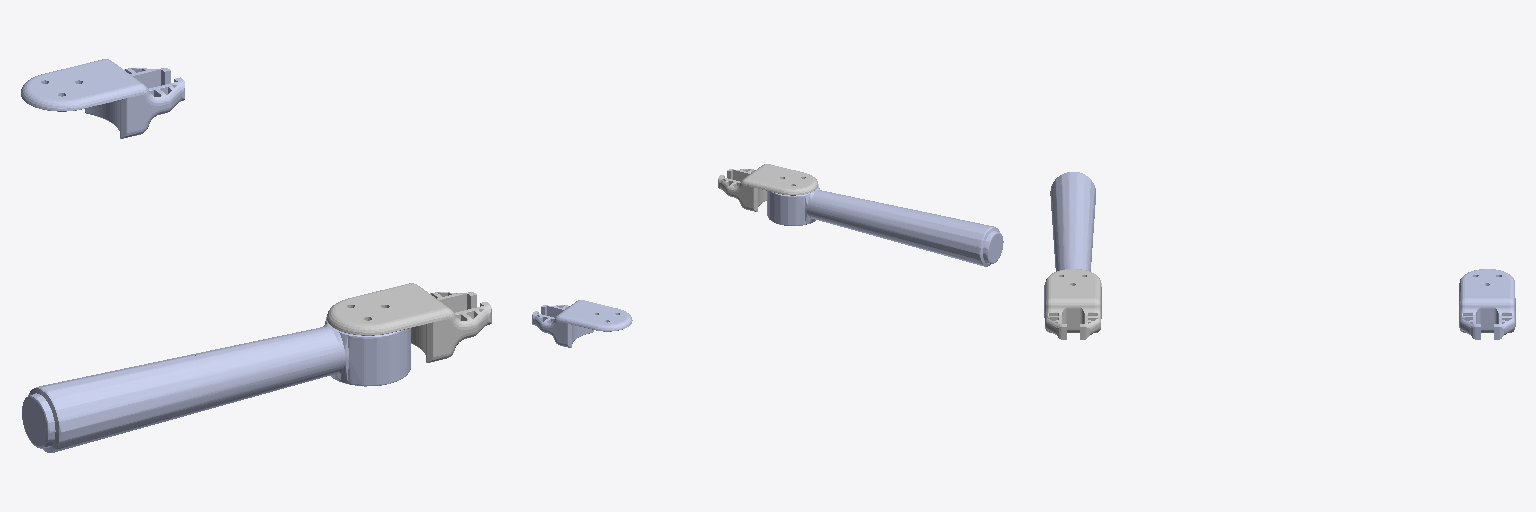
robot.urdf — RobotBimanualV3:
<?xml version="1.0" encoding="utf-8"?>
<!-- This URDF was automatically created by SolidWorks to URDF Exporter! Originally created by [author] ([email redacted]) 
     Commit Version: 1.6.0-4-g7f85cfe  Build Version: 1.6.7995.38578
     For more information, please see http://wiki.ros.org/sw_urdf_exporter -->
<robot
  name="RobotBimanualV3">
  <link
    name="base_link">
    <inertial>
      <origin
        xyz="0.010321 0.00065104 0.5185"
        rpy="0 0 0" />
      <mass
        value="35.545" />
      <inertia
        ixx="1.3259"
        ixy="-1.6443E-06"
        ixz="-0.00012106"
        iyy="1.3119"
        iyz="-1.547E-06"
        izz="0.026428" />
    </inertial>
    <visual>
      <origin
        xyz="0 0 0"
        rpy="0 0 0" />
      <geometry>
        <mesh
          filename="package://RobotBimanualV3/meshes/base_link.obj" />
      </geometry>
      <material
        name="">
        <color
          rgba="0.79216 0.81961 0.93333 1" />
      </material>
    </visual>
    <collision>
      <origin
        xyz="0 0 0"
        rpy="0 0 0" />
      <geometry>
        <mesh
          filename="package://RobotBimanualV3/meshes/base_link_simplified_decomposed.obj" />
      </geometry>
    </collision>
  </link>
  <link
    name="link1">
    <inertial>
      <origin
        xyz="0.00277367 6.161E-05 0.05165334"
        rpy="0 0 0" />
      <mass
        value="0.706" />
      <inertia
        ixx="0.00074611"
        ixy="5.4E-07"
        ixz="5.3E-07"
        iyy="0.00054009"
        iyz="3.26E-06"
        izz="0.00050643" />
    </inertial>
    <visual>
      <origin
        xyz="0 0 0"
        rpy="0 0 0" />
      <geometry>
        <mesh
          filename="package://RobotBimanualV3/meshes/link1.obj" />
      </geometry>
      <material
        name="">
        <color
          rgba="1 1 1 1" />
      </material>
    </visual>
    <collision>
      <origin
        xyz="0 0 0"
        rpy="0 0 0" />
      <geometry>
        <mesh
          filename="package://RobotBimanualV3/meshes/Simplified_link1_decomposed.obj" />
      </geometry>
    </collision>
  </link>
  <joint
    name="joint1"
    type="revolute">
    <origin
      xyz="0.02 0.1037 0.8358"
      rpy="0 0 0" />
    <parent
      link="base_link" />
    <child
      link="link1" />
    <axis
      xyz="0 0 1" />
    <limit
      lower="-1.57079633"
      upper="0.87266463"
      effort="4"
      velocity="10" />
  </joint>
  <link
    name="link2">
    <inertial>
      <origin
        xyz="-0.00124394 -5.732E-05 0.0545228"
        rpy="0 0 0" />
      <mass
        value="0.659" />
      <inertia
        ixx="0.00064807"
        ixy="8.3E-07"
        ixz="-4.6E-07"
        iyy="0.00045162"
        iyz="-1.01E-06"
        izz="0.00043422" />
    </inertial>
    <visual>
      <origin
        xyz="0 0 0"
        rpy="0 0 0" />
      <geometry>
        <mesh
          filename="package://RobotBimanualV3/meshes/link2.obj" />
      </geometry>
      <material
        name="">
        <color
          rgba="1 1 1 1" />
      </material>
    </visual>
    <collision>
      <origin
        xyz="0 0 0"
        rpy="0 0 0" />
      <geometry>
        <mesh
          filename="package://RobotBimanualV3/meshes/Simplified_link2_decomposed.obj" />
      </geometry>
    </collision>
  </link>
  <joint
    name="joint2"
    type="revolute">
    <origin
      xyz="-0.020519 0.0080718 0.0528"
      rpy="-1.5708 0 1.5708" />
    <parent
      link="link1" />
    <child
      link="link2" />
    <axis
      xyz="0 0 1" />
    <limit
      lower="-0.87266463"
      upper="0.87266463"
      effort="4"
      velocity="10" />
  </joint>
  <link
    name="link3">
    <inertial>
      <origin
        xyz="-0.03505493 -0.006151 0.05438578"
        rpy="0 0 0" />
      <mass
        value="1.095" />
      <inertia
        ixx="0.00161847"
        ixy="0.00042205"
        ixz="-0.00104433"
        iyy="0.0066165"
        iyz="-0.0001917"
        izz="0.00653551" />
    </inertial>
    <visual>
      <origin
        xyz="0 0 0"
        rpy="0 0 0" />
      <geometry>
        <mesh
          filename="package://RobotBimanualV3/meshes/link3.obj" />
      </geometry>
      <material
        name="">
        <color
          rgba="0.79216 0.81961 0.93333 1" />
      </material>
    </visual>
    <collision>
      <origin
        xyz="0 0 0"
        rpy="0 0 0" />
      <geometry>
        <mesh
          filename="package://RobotBimanualV3/meshes/Simplified_link3_decomposed.obj" />
      </geometry>
    </collision>
  </link>
  <joint
    name="joint3"
    type="revolute">
    <origin
      xyz="0.014928 0 0.058031"
      rpy="-1.5708 0 -1.5708" />
    <parent
      link="link2" />
    <child
      link="link3" />
    <axis
      xyz="0 0 1" />
    <limit
      lower="-3.14159265"
      upper="0.87266463"
      effort="4"
      velocity="10" />
  </joint>
  <link
    name="link4">
    <inertial>
      <origin
        xyz="-0.00914828 -0.00042727 -7.12E-06"
        rpy="0 0 0" />
      <mass
        value="0.268" />
      <inertia
        ixx="9.136E-05"
        ixy="7E-08"
        ixz="-2E-08"
        iyy="0.00013894"
        iyz="0"
        izz="0.00013031" />
    </inertial>
    <visual>
      <origin
        xyz="0 0 0"
        rpy="0 0 0" />
      <geometry>
        <mesh
          filename="package://RobotBimanualV3/meshes/link4.obj" />
      </geometry>
      <material
        name="">
        <color
          rgba="0.79216 0.81961 0.93333 1" />
      </material>
    </visual>
    <collision>
      <origin
        xyz="0 0 0"
        rpy="0 0 0" />
      <geometry>
        <mesh
          filename="package://RobotBimanualV3/meshes/Simplified_link4_decomposed.obj" />
      </geometry>
    </collision>
  </link>
  <joint
    name="joint4"
    type="revolute">
    <origin
      xyz="-0.25 0 0.08318"
      rpy="0 0 1.5708" />
    <parent
      link="link3" />
    <child
      link="link4" />
    <axis
      xyz="0 0 1" />
    <limit
      lower="-0.78539816"
      upper="1.30899694"
      effort="4"
      velocity="10" />
  </joint>
  <link
    name="link5">
    <inertial>
      <origin
        xyz="-0.00143459 -5.019E-05 0.22261684"
        rpy="0 0 0" />
      <mass
        value="0.285" />
      <inertia
        ixx="0.00170458"
        ixy="1.5E-07"
        ixz="-2.111E-05"
        iyy="0.00168732"
        iyz="-5.6E-07"
        izz="7.029E-05" />
    </inertial>
    <visual>
      <origin
        xyz="0 0 0"
        rpy="0 0 0" />
      <geometry>
        <mesh
          filename="package://RobotBimanualV3/meshes/link5.obj" />
      </geometry>
      <material
        name="">
        <color
          rgba="0.79216 0.81961 0.93333 1" />
      </material>
    </visual>
    <collision>
      <origin
        xyz="0 0 0"
        rpy="0 0 0" />
      <geometry>
        <mesh
          filename="package://RobotBimanualV3/meshes/Simplified_link5_decomposed.obj" scale="0.9 0.9 1"  />
      </geometry>
    </collision>
  </link>
  <joint
    name="joint5"
    type="revolute">
    <origin
      xyz="0.014 0 0"
      rpy="-1.5708 0 -1.5708" />
    <parent
      link="link4" />
    <child
      link="link5" />
    <axis
      xyz="0 0 1" />
    <limit
      lower="-3.66519143"
      upper="3.66519143"
      effort="1"
      velocity="20" />
  </joint>
  <link
    name="link6">
    <inertial>
      <origin
        xyz="0 0.036479 -0.0051321"
        rpy="0 0 0" />
      <mass
        value="0.069" />
      <inertia
        ixx="5.058E-05"
        ixy="0"
        ixz="0"
        iyy="2.639E-05"
        iyz="-9.98E-06"
        izz="6.138E-05" />
    </inertial>
    <visual>
      <origin
        xyz="0 0 0"
        rpy="0 0 0" />
      <geometry>
        <mesh
          filename="package://RobotBimanualV3/meshes/link12.obj" />
      </geometry>
      <material
        name="">
        <color
          rgba="0.79216 0.81961 0.93333 1" />
      </material>
    </visual>
    <collision>
      <origin
        xyz="0 0 0"
        rpy="0 0 0" />
      <geometry>
        <mesh
          filename="package://RobotBimanualV3/meshes/link12_coacd.obj" />
      </geometry>
    </collision>
  </link>
  <joint
    name="joint6"
    type="revolute">
    <origin
      xyz="0.01415 0 0.2633"
      rpy="1.5708 0 1.5708" />
    <parent
      link="link5" />
    <child
      link="link6" />
    <axis
      xyz="0 0 1" />
    <limit
      lower="-2.0944"
      upper="2.0944"
      effort="1"
      velocity="20" />
  </joint>
  <link name="tool1">
    <inertial>
      <origin
        xyz="0 0 0"
        rpy="0 0 0" />
      <mass
        value="0" />
      <inertia
        ixx="0"
        ixy="0"
        ixz="0"
        iyy="0"
        iyz="0"
        izz="0" />
    </inertial>
  </link>
  <joint name="tool1_frame" type="fixed">
    <origin xyz="0.0 0.0875 -0.01" rpy="0 0 0" />
    <parent link="link6" />
    <child link="tool1" />
  </joint>
  <link
    name="link7">
    <inertial>
      <origin
        xyz="0.00239406 -0.00016204 0.05155291"
        rpy="0 0 0" />
      <mass
        value="0.706" />
      <inertia
        ixx="0.00074592"
        ixy="-2.03E-06"
        ixz="-1.52E-06"
        iyy="0.00053798"
        iyz="-3.35E-06"
        izz="0.00050821" />
    </inertial>
    <visual>
      <origin
        xyz="0 0 0"
        rpy="0 0 0" />
      <geometry>
        <mesh
          filename="package://RobotBimanualV3/meshes/link7.obj" />
      </geometry>
      <material
        name="">
        <color
          rgba="0.79216 0.81961 0.93333 1" />
      </material>
    </visual>
    <collision>
      <origin
        xyz="0 0 0"
        rpy="0 0 0" />
      <geometry>
        <mesh
          filename="package://RobotBimanualV3/meshes/link7_coacd.obj" />
      </geometry>
    </collision>
  </link>
  <joint
    name="joint7"
    type="revolute">
    <origin
      xyz="0.02 -0.1037 0.8358"
      rpy="0 0 0" />
    <parent
      link="base_link" />
    <child
      link="link7" />
    <axis
      xyz="0 0 1" />
    <limit
      lower="-1.57079633"
      upper="0.87266463"
      effort="4"
      velocity="10.00" />  
  </joint>
  <link
    name="link8">
    <inertial>
      <origin
        xyz="-0.00124394 7.606E-05 0.05454155"
        rpy="0 0 0" />
      <mass
        value="0.659" />
      <inertia
        ixx="0.00064811"
        ixy="-1.1E-06"
        ixz="-7.3E-07"
        iyy="0.0004522"
        iyz="1.03E-06"
        izz="0.00043369" />
    </inertial>
    <visual>
      <origin
        xyz="0 0 0"
        rpy="0 0 0" />
      <geometry>
        <mesh
          filename="package://RobotBimanualV3/meshes/link8.obj" />
      </geometry>
      <material
        name="">
        <color
          rgba="1 1 1 1" />
      </material>
    </visual>
    <collision>
      <origin
        xyz="0 0 0"
        rpy="0 0 0" />
      <geometry>
        <mesh
          filename="package://RobotBimanualV3/meshes/link8_coacd.obj" />
      </geometry>
    </collision>
  </link>
  <joint
    name="joint8"
    type="revolute">
    <origin
      xyz="-0.02205 0 0.0528"
      rpy="1.5708 0 -1.5708" />
    <parent
      link="link7" />
    <child
      link="link8" />
    <axis
      xyz="0 0 1" />
    <limit
      lower="-0.87266463"
      upper="1.57079633"
      effort="4"
      velocity="10.00" />
  </joint>
  <link
    name="link9">
    <inertial>
      <origin
        xyz="-0.03505563 0.00468094 0.05453087"
        rpy="0 0 0" />
      <mass
        value="1.095" />
      <inertia
        ixx="0.00161845"
        ixy="-0.00039365"
        ixz="-0.00105521"
        iyy="0.00662637"
        iyz="0.00018923"
        izz="0.00652496" />
    </inertial>
    <visual>
      <origin
        xyz="0 0 0"
        rpy="0 0 0" />
      <geometry>
        <mesh
          filename="package://RobotBimanualV3/meshes/link9.obj" />
      </geometry>
      <material
        name="">
        <color
          rgba="0.79216 0.81961 0.93333 1" />
      </material>
    </visual>
    <collision>
      <origin
        xyz="0 0 0"
        rpy="0 0 0" />
      <geometry>
        <mesh
          filename="package://RobotBimanualV3/meshes/link9_coacd.obj" />
      </geometry>
    </collision>
  </link>
  <joint
    name="joint9"
    type="revolute">
    <origin
      xyz="0.023 0 0.0565"
      rpy="-1.5708 3.14159 -1.5708" />
    <parent
      link="link8" />
    <child
      link="link9" />
    <axis
      xyz="0 0 1" />
    <limit
      lower="-0.87266463"
      upper="3.14159265"
      effort="2"
      velocity="10.00" />
  </joint>
  <link
    name="link10">
    <inertial>
      <origin
        xyz="-0.00914828 -0.00042727 7.13E-06"
        rpy="0 0 0" />
      <mass
        value="0.268" />
      <inertia
        ixx="9.136E-05"
        ixy="7E-08"
        ixz="2E-08"
        iyy="0.00013894"
        iyz="0"
        izz="0.00013031" />
    </inertial>
    <visual>
      <origin
        xyz="0 0 0"
        rpy="0 0 0" />
      <geometry>
        <mesh
          filename="package://RobotBimanualV3/meshes/link10.obj" />
      </geometry>
      <material
        name="">
        <color
          rgba="0.75686 0.76863 0.75294 1" />
      </material>
    </visual>
    <collision>
      <origin
        xyz="0 0 0"
        rpy="0 0 0" />
      <geometry>
        <mesh
          filename="package://RobotBimanualV3/meshes/link10_coacd.obj" />
      </geometry>
    </collision>
  </link>
  <joint
    name="joint10"
    type="revolute">
    <origin
      xyz="-0.25 0 0.08318"
      rpy="3.1416 0 -1.5708" />
    <parent
      link="link9" />
    <child
      link="link10" />
    <axis
      xyz="0 0 -1" />
    <limit
      lower="-1.30899694"
      upper="0.78539816"
      effort="2"
      velocity="10.00" />
  </joint>
  <link
    name="link11">
    <inertial>
      <origin
        xyz="-0.00632614 -0.00605515 0.22103312"
        rpy="0 0 0" />
      <mass
        value="0.276" />
      <inertia
        ixx="0.00168219"
        ixy="9E-08"
        ixz="-5.419E-05"
        iyy="0.00166462"
        iyz="-4.464E-05"
        izz="6.877E-05" />
    </inertial>
    <visual>
      <origin
        xyz="0 0 0"
        rpy="0 0 0" />
      <geometry>
        <mesh
          filename="package://RobotBimanualV3/meshes/link11.obj" />
      </geometry>
      <material
        name="">
        <color
          rgba="0.79216 0.81961 0.93333 1" />
      </material>
    </visual>
    <collision>
      <origin
        xyz="0 0 0"
        rpy="0 0 0" />
      <geometry>
        <mesh
          filename="package://RobotBimanualV3/meshes/link11_coacd.obj" />
      </geometry>
    </collision>
  </link>
  <joint
    name="joint11"
    type="revolute">
    <origin
      xyz="0.014 0 0"
      rpy="-1.5708 0 -1.5708" />
    <parent
      link="link10" />
    <child
      link="link11" />
    <axis
      xyz="0 0 1" />
    <limit
      lower="-3.66519143"
      upper="1.91986218"
      effort="1"
      velocity="15.00" />
  </joint>
  <link
    name="link12">
    <inertial>
      <origin
        xyz="0 -0.03647862 -0.00513209"
        rpy="0 0 0" />
      <mass
        value="0.069" />
      <inertia
        ixx="5.058E-05"
        ixy="0"
        ixz="0"
        iyy="2.639E-05"
        iyz="-9.98E-06"
        izz="6.138E-05" />
    </inertial>
    <visual>
      <origin
        xyz="0 0 0"
        rpy="0 0 0" />
      <geometry>
        <mesh
          filename="package://RobotBimanualV3/meshes/link12.obj" />
      </geometry>
      <material
        name="">
        <color
          rgba="0.82353 0.82353 0.82353 1" />
      </material>
    </visual>
    <collision>
      <origin
        xyz="0 0 0"
        rpy="0 0 0" />
      <geometry>
        <mesh
          filename="package://RobotBimanualV3/meshes/link12_coacd.obj" />
      </geometry>
    </collision>
  </link>
  <joint
    name="joint12"
    type="revolute">
    <origin
      xyz="0.01415 0 0.2633"
      rpy="1.5708 0 1.5708" />
    <parent
      link="link11" />
    <child
      link="link12" />
    <axis
      xyz="0 0 1" />
    <limit
      lower="-2.0944"
      upper="2.0944"
      effort="1"
      velocity="15.00" />
  </joint>
  <link name="tool2">
    <inertial>
      <origin
        xyz="0 0 0"
        rpy="0 0 0" />
      <mass
        value="0" />
      <inertia
        ixx="0"
        ixy="0"
        ixz="0"
        iyy="0"
        iyz="0"
        izz="0" />
    </inertial>
  </link>
  <joint name="tool2_frame" type="fixed">
    <origin xyz="0.0 0.0875 -0.01" rpy="0 0 0" />
    <parent link="link12" />
    <child link="tool2" />
  </joint>
</robot>

--- What the picture shows (computed from the rendered views, not written in the file) ---
3 views of the same robot in one strip: view 1: azimuth 30°, elevation 25°; view 2: azimuth 150°, elevation 25°; view 3: azimuth 270°, elevation 25° (orthographic).
Model RobotBimanualV3 with 15 links and 14 joints (12 revolute, 2 fixed), rooted at base_link, posed every joint at zero.
Visible links, largest first — view 1: link11, link6, link12; view 2: link11, link6, link12; view 3: link11, link6, link12.
Boxes of the visible links, x1,y1,x2,y2 form: link11: (22, 317, 410, 452); link6: (21, 59, 184, 138); link12: (327, 283, 491, 362); link11: (767, 184, 1003, 266); link6: (532, 300, 632, 347); link12: (718, 164, 817, 211); link11: (1044, 172, 1101, 318); link6: (1459, 269, 1515, 339); link12: (1045, 269, 1100, 339).
Size in the robot's own frame: 0.3541 by 0.4775 by 0.0461 metres.
3 mesh visuals loaded from 12 distinct referenced files (2 OBJ); not drawn: 10 (reference not matched to a file when rendering).